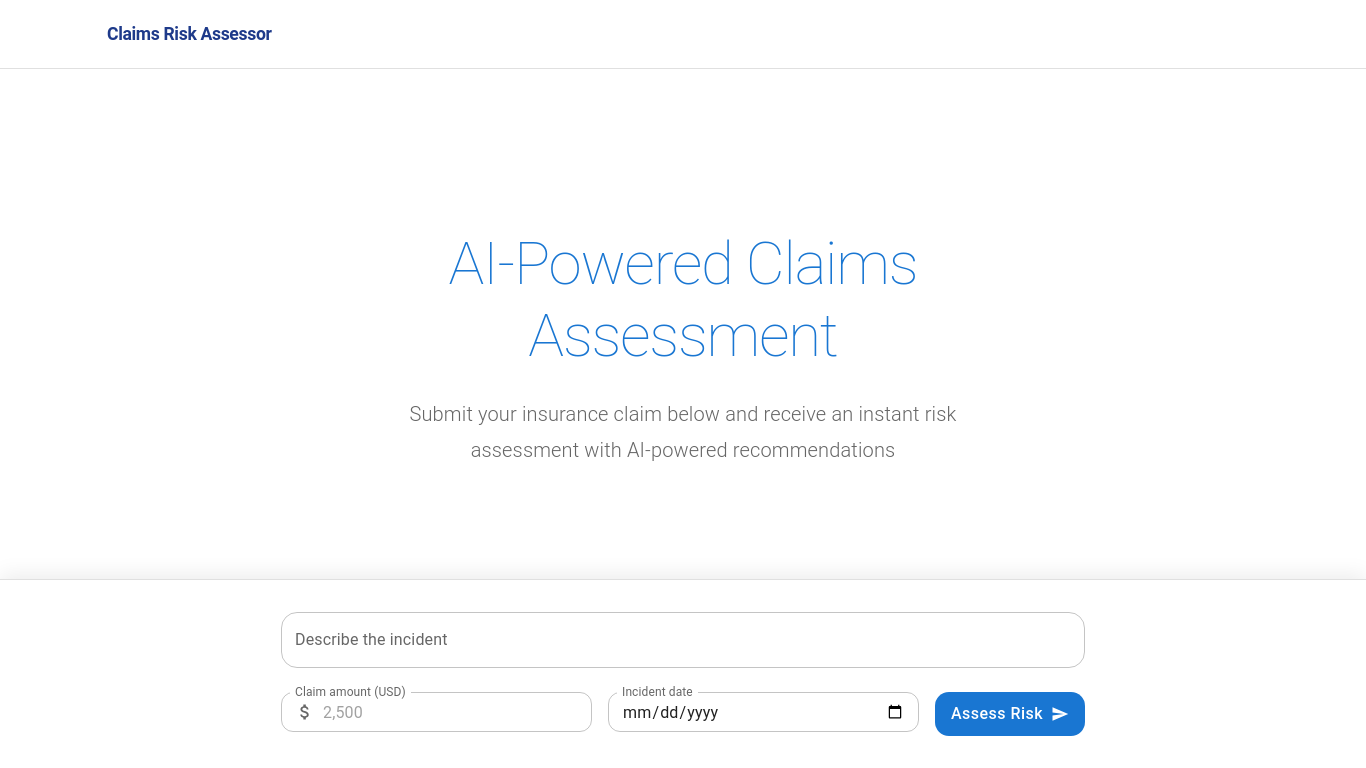
Test: HomePage - Integration Test › should display error when submission fails
In the number field labelled "Claim amount (USD)": (458, 712) [323,692,592,732], type "3000"
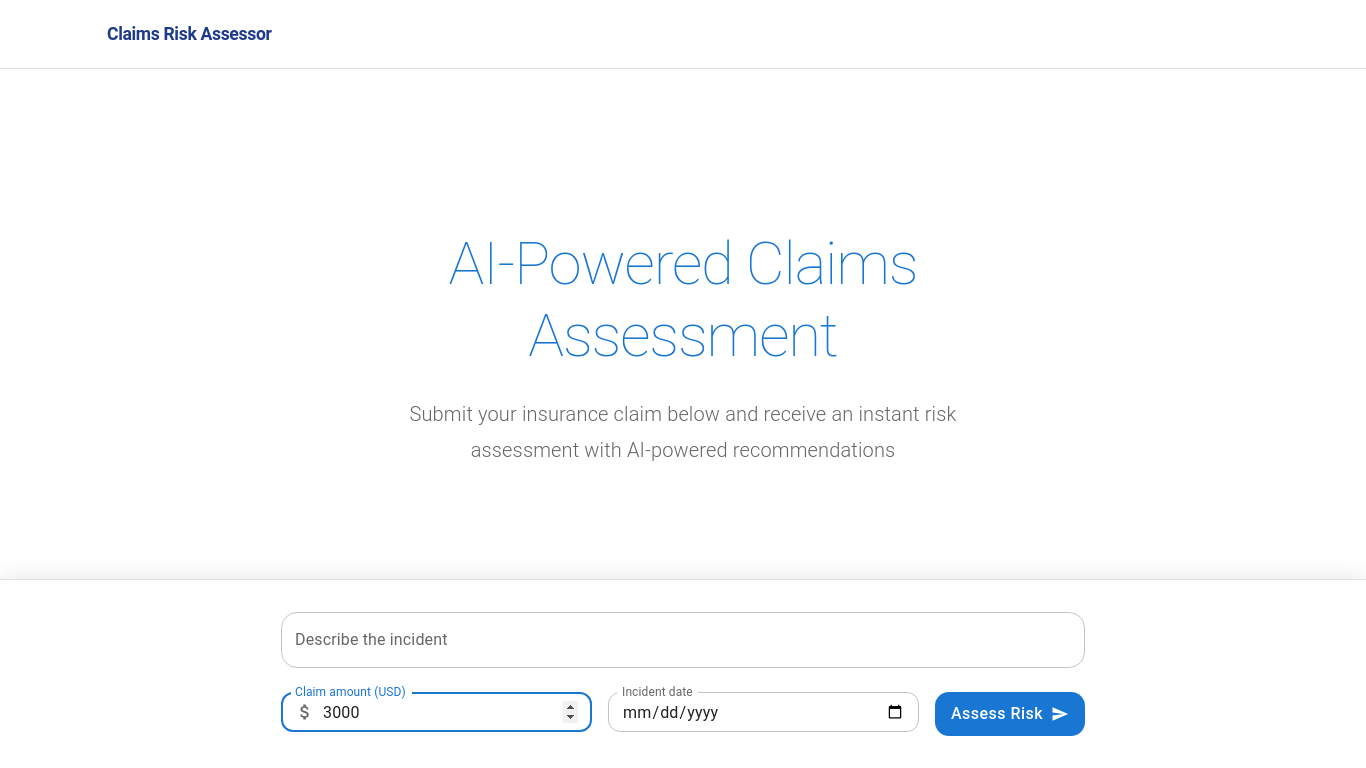
In the date field labelled "Incident date": (764, 712) [608,692,919,732], type "2024-01-10"
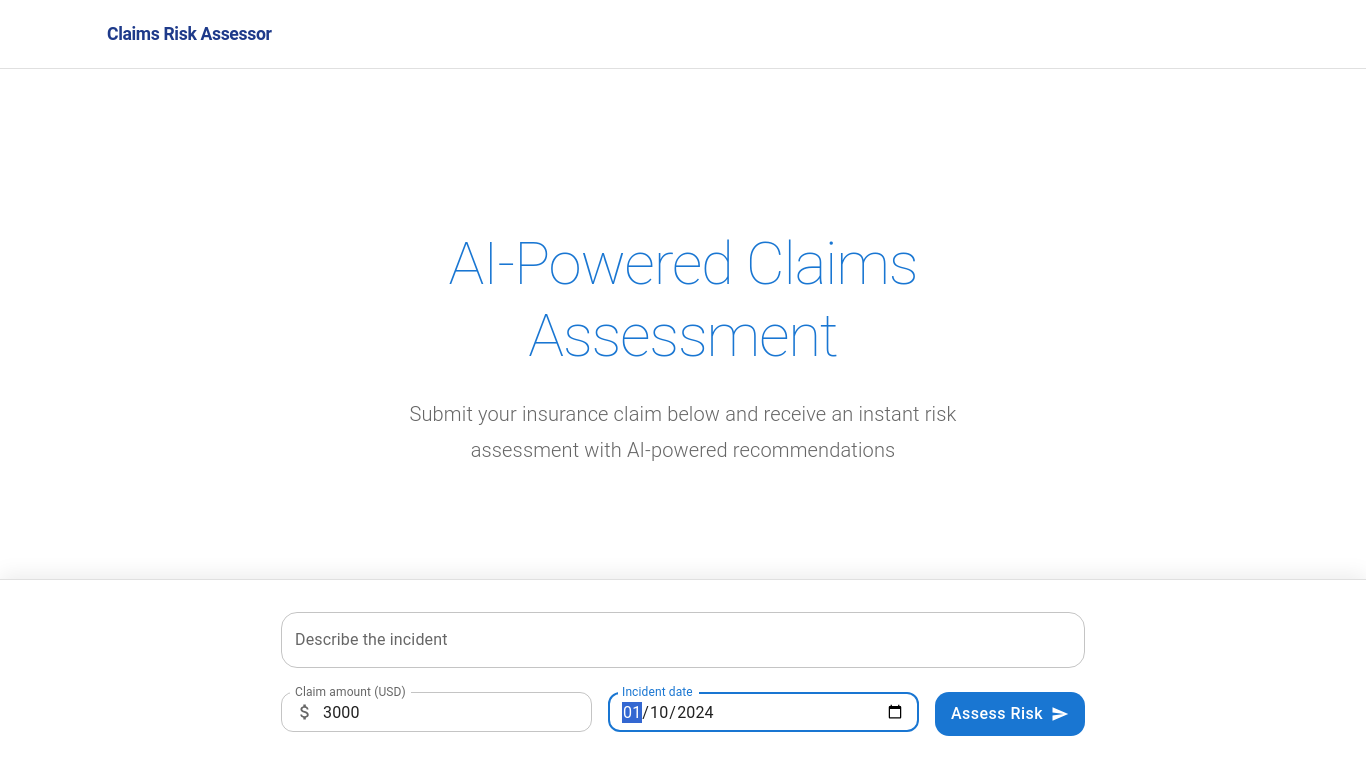
In the text box labelled "Describe the incident": (683, 640) [295,628,1071,652], type "Home damage from severe storm"
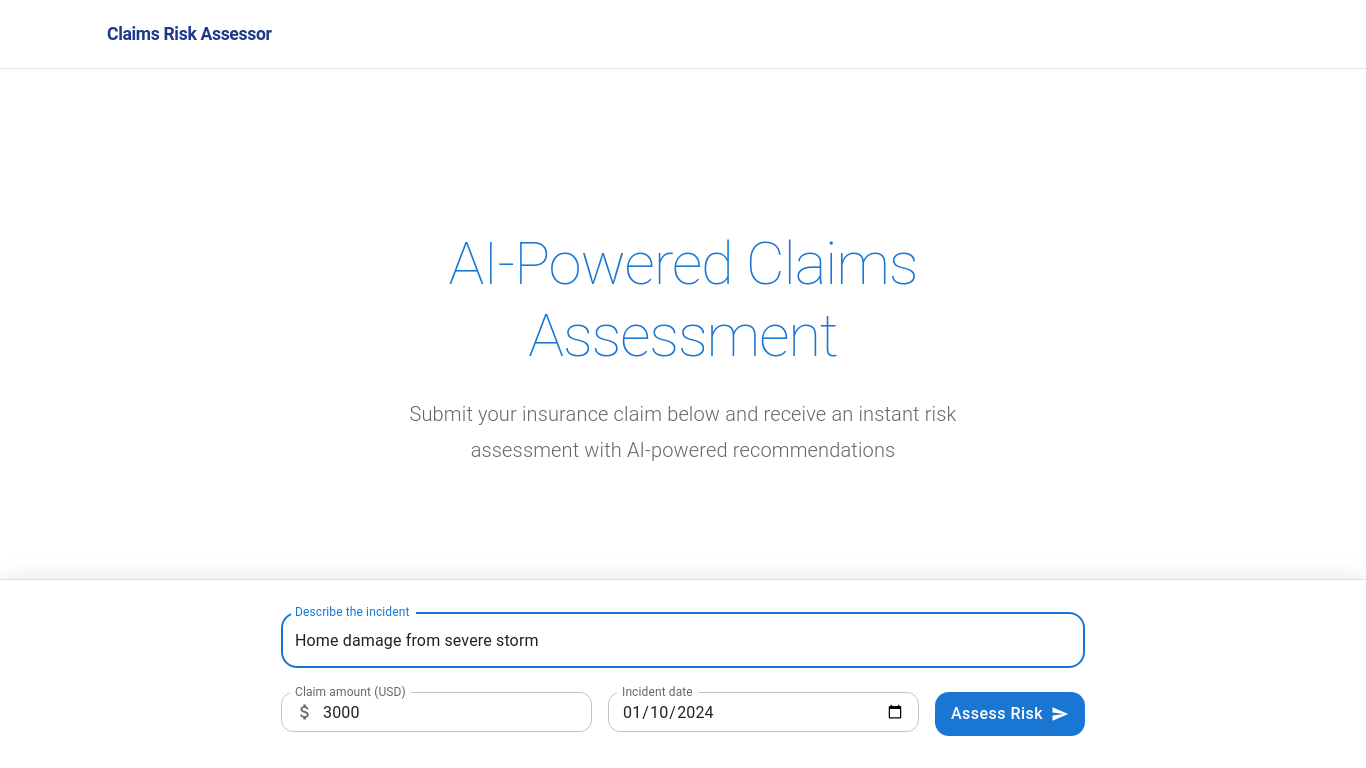
Submit the form
Click the button "Assess Risk": click(1010, 714) [935,692,1085,736]
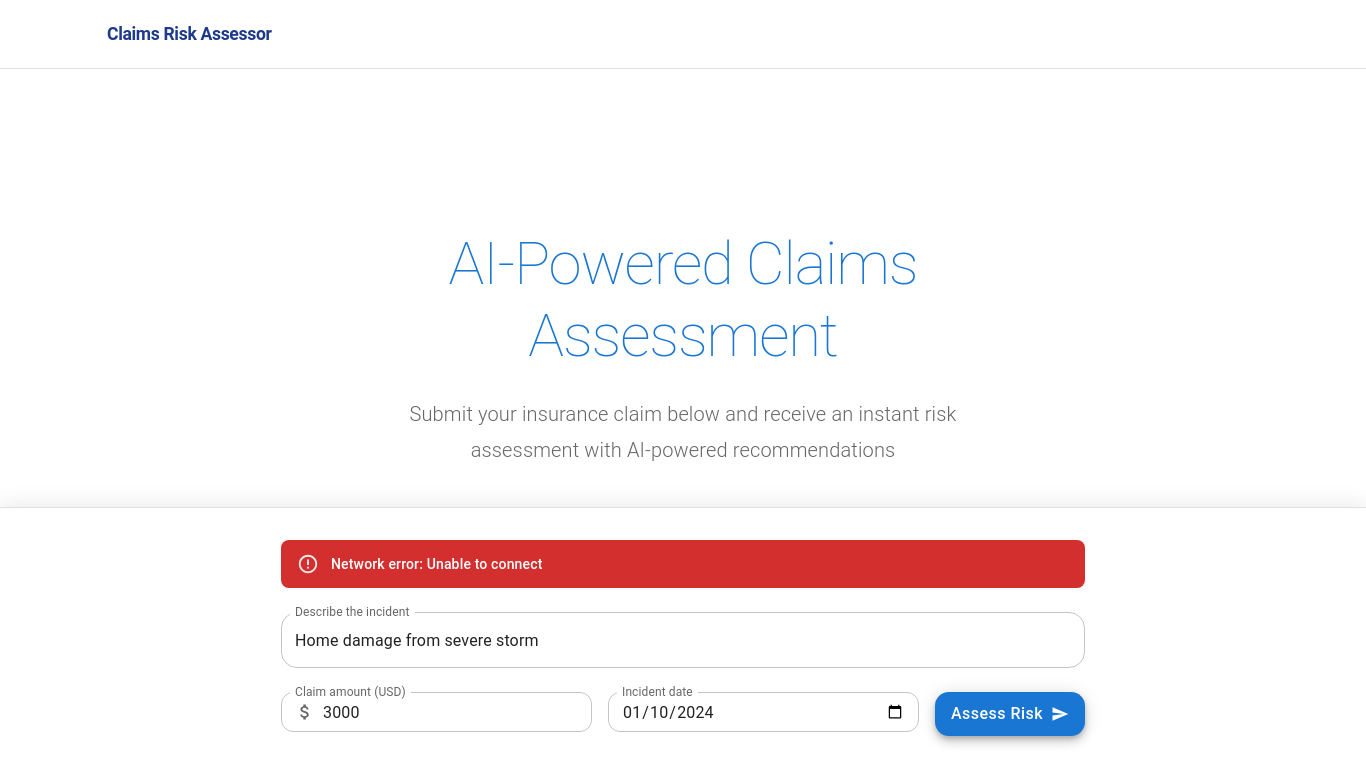
Expected: the text "Network error: Unable to connect" is shown, [331,556,542,572]
